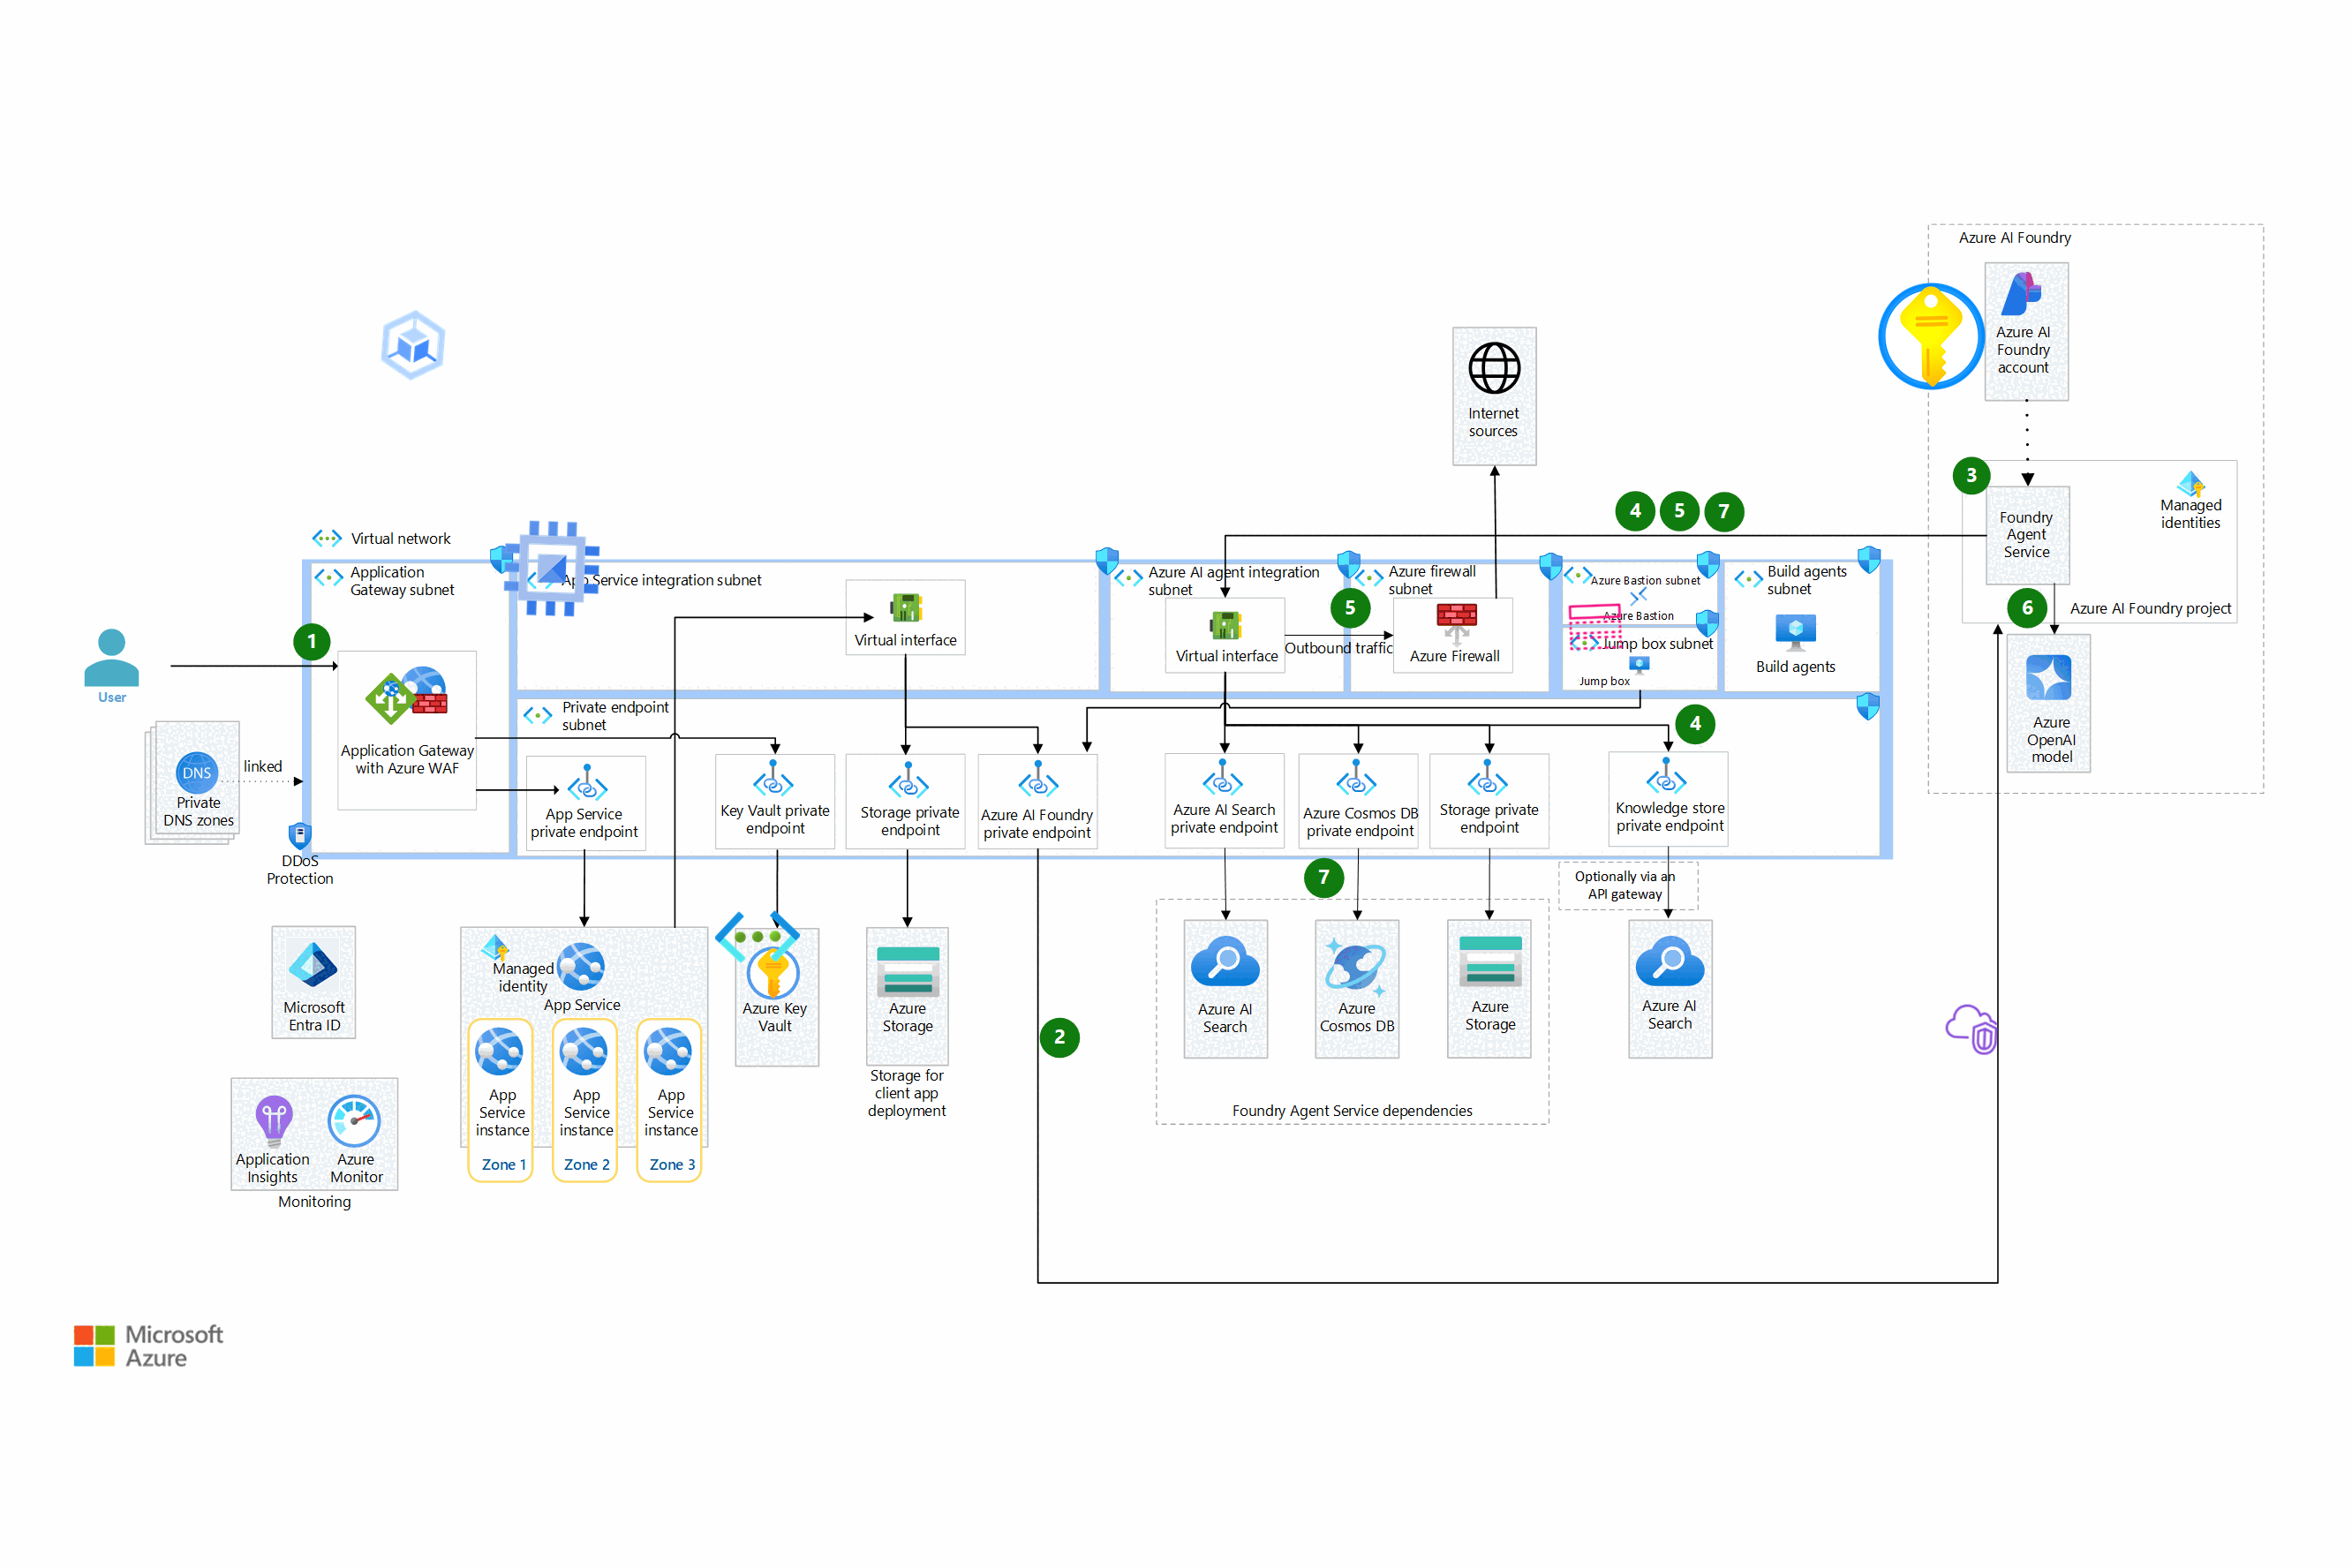aws_simple_notification_service_topic: (1564, 597, 1626, 656)
aws_vpc_virtual_private_cloud_vpc: (1941, 999, 2002, 1059)
azure_key_vaults: (1874, 278, 1990, 395)
azure_virtual_networks: (714, 892, 801, 982)
gcp_compute_engine: (494, 509, 611, 628)
gcp_google_kubernetes_engine: (367, 299, 458, 390)
